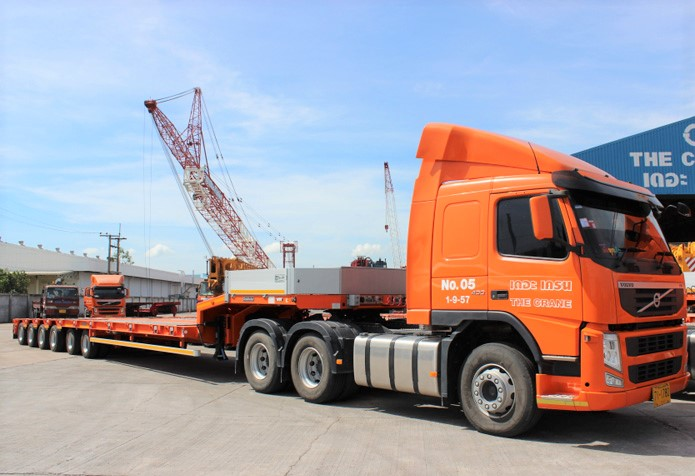truck: (413, 123, 691, 439)
